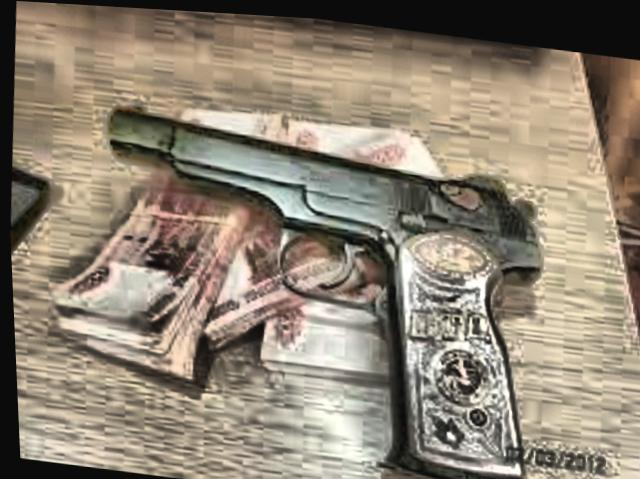pistol: (75, 82, 557, 479)
